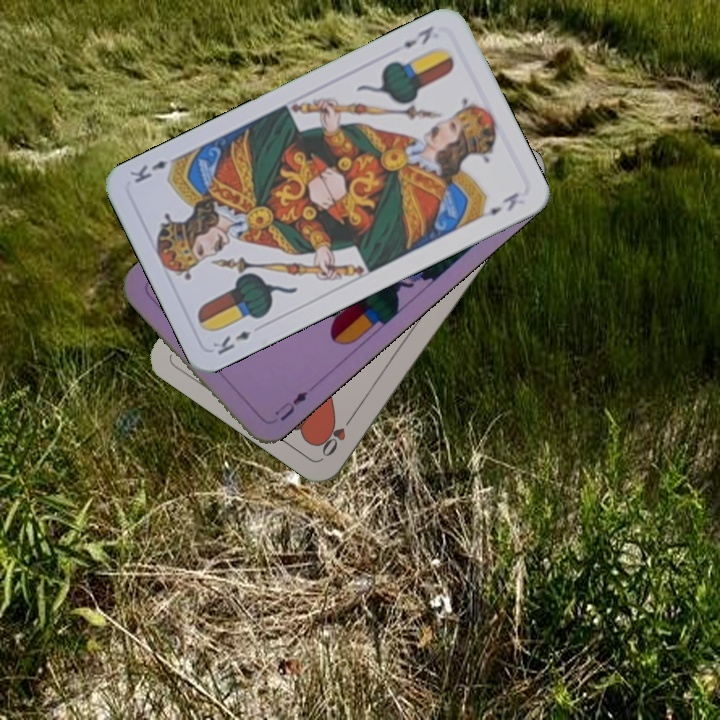EK: (208, 326, 254, 357), (399, 22, 437, 51)
EU: (271, 387, 310, 424)
HO: (317, 408, 358, 460)
